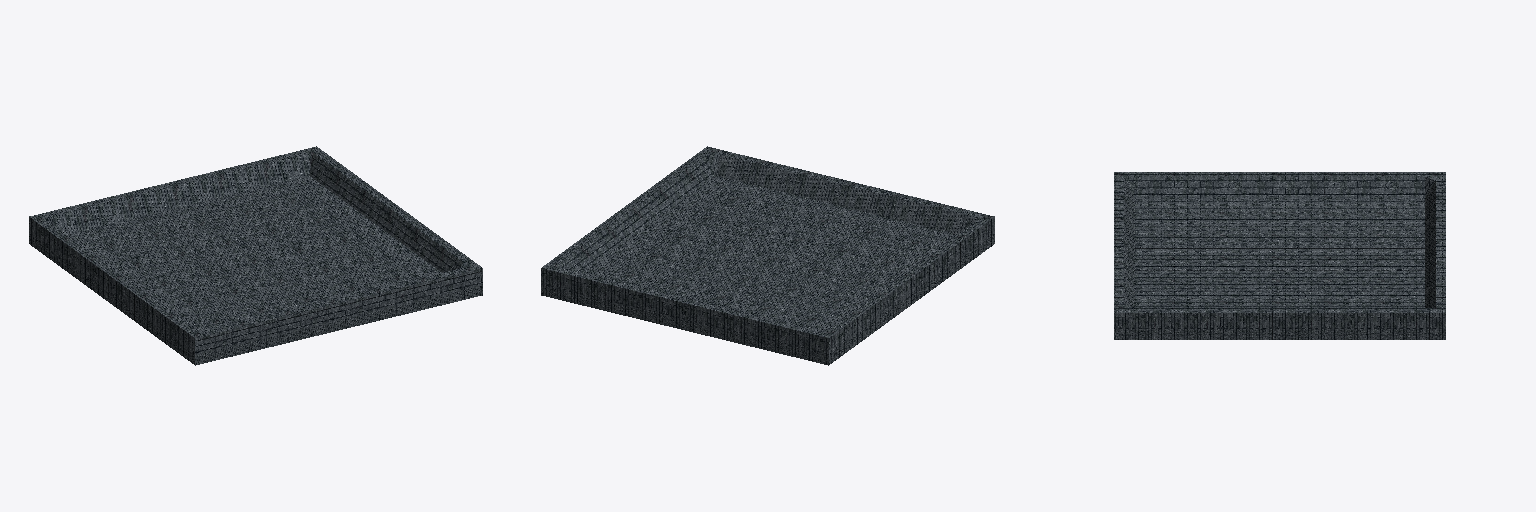
3 views of the same model, side by side, from view 1: azimuth 30°, elevation 25°; view 2: azimuth 150°, elevation 25°; view 3: azimuth 270°, elevation 25° (orthographic).
Parts seen in each view (by area): view 1: Cube; view 2: Cube; view 3: Cube.
Boxes of the visible parts, x1=… form: Cube: x1=29, y1=146, x2=482, y2=365; Cube: x1=541, y1=146, x2=994, y2=365; Cube: x1=1114, y1=172, x2=1445, y2=339.
Size of the model in its own units: 18 by 1.63 by 18.
1 materials, 1 textured.